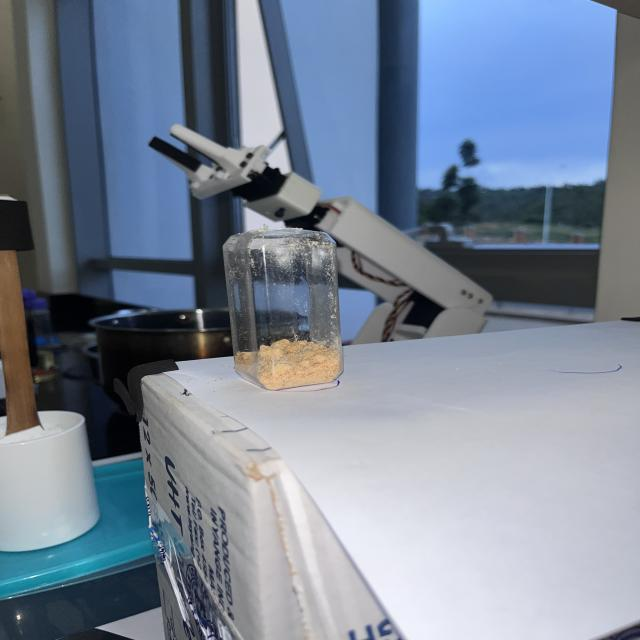garlic_powder: (231, 337, 341, 390)
